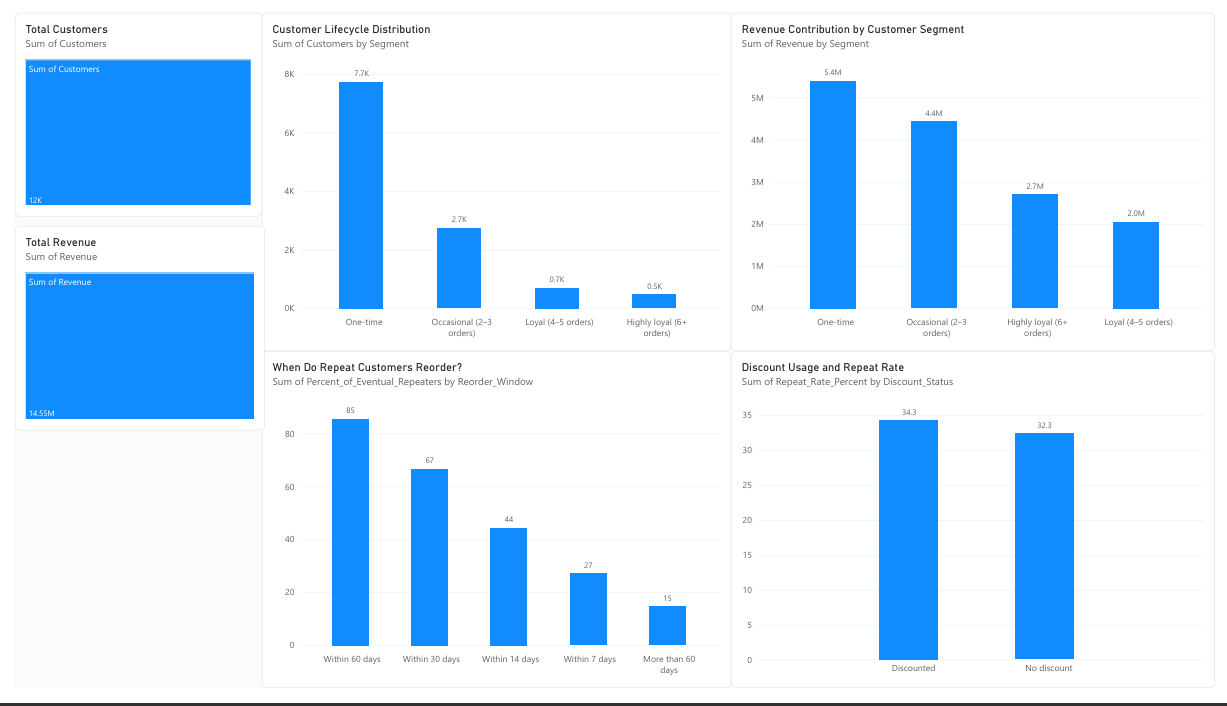

What the dashboard file says about the page in this screenshot:
{"tool":"powerbi","page":{"name":"Executive Overview","canvas":[1920,1080],"ordinal":0},"visuals":[{"type":"clusteredColumnChart","title":"Customer Lifecycle Distribution","fields":{"Category":["lifecycle.Segment"],"Y":["Sum(lifecycle.Customers)"]},"box":[0,341.4,1001.5,341.4],"z":0},{"type":"clusteredColumnChart","title":"Revenue Contribution by Customer Segment","fields":{"Category":["lifecycle.Segment"],"Y":["Sum(lifecycle.Revenue)"]},"box":[1001.5,326.2,918,356.6],"z":1000},{"type":"clusteredColumnChart","title":"When Do Repeat Customers Reorder?","fields":{"Category":["reorder_windows.Reorder_Window"],"Y":["Sum(reorder_windows.Percent_of_Eventual_Repeaters)"]},"box":[0,682.8,1001.5,397.1],"z":2000},{"type":"clusteredColumnChart","title":"Discount Usage and Repeat Rate","fields":{"Category":["discount_repeat.Discount_Status"],"Y":["Sum(discount_repeat.Repeat_Rate_Percent)"]},"box":[1001.5,682.8,918,397.1],"z":3000},{"type":"treemap","title":"Total Customers","fields":{"Values":["Sum(lifecycle.Customers)"]},"box":[0,0,1001.5,326.2],"z":4000},{"type":"treemap","title":"Total Revenue","fields":{"Values":["Sum(lifecycle.Revenue)"]},"box":[1001.5,0,918,326.2],"z":5000}]}

Visuals, with their boxes in screenshot pixels (x1, y1, x2, y2), scaled from the page's 1920x1080 canvas onto the 1227x706 screenshot:
"Customer Lifecycle Distribution" clusteredColumnChart: {"left": 0, "top": 223, "right": 640, "bottom": 446}
"Revenue Contribution by Customer Segment" clusteredColumnChart: {"left": 640, "top": 213, "right": 1226, "bottom": 446}
"When Do Repeat Customers Reorder?" clusteredColumnChart: {"left": 0, "top": 446, "right": 640, "bottom": 705}
"Discount Usage and Repeat Rate" clusteredColumnChart: {"left": 640, "top": 446, "right": 1226, "bottom": 705}
"Total Customers" treemap: {"left": 0, "top": 0, "right": 640, "bottom": 213}
"Total Revenue" treemap: {"left": 640, "top": 0, "right": 1226, "bottom": 213}
